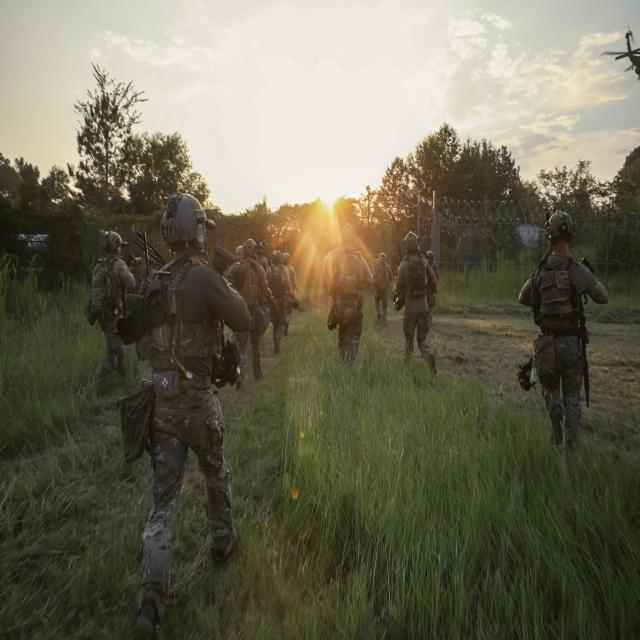Forest: (0, 0, 640, 640), (4, 5, 635, 634)
Militant: (111, 172, 253, 601), (508, 190, 624, 512), (309, 176, 385, 404), (376, 219, 459, 396), (83, 190, 137, 436), (232, 196, 287, 392)
